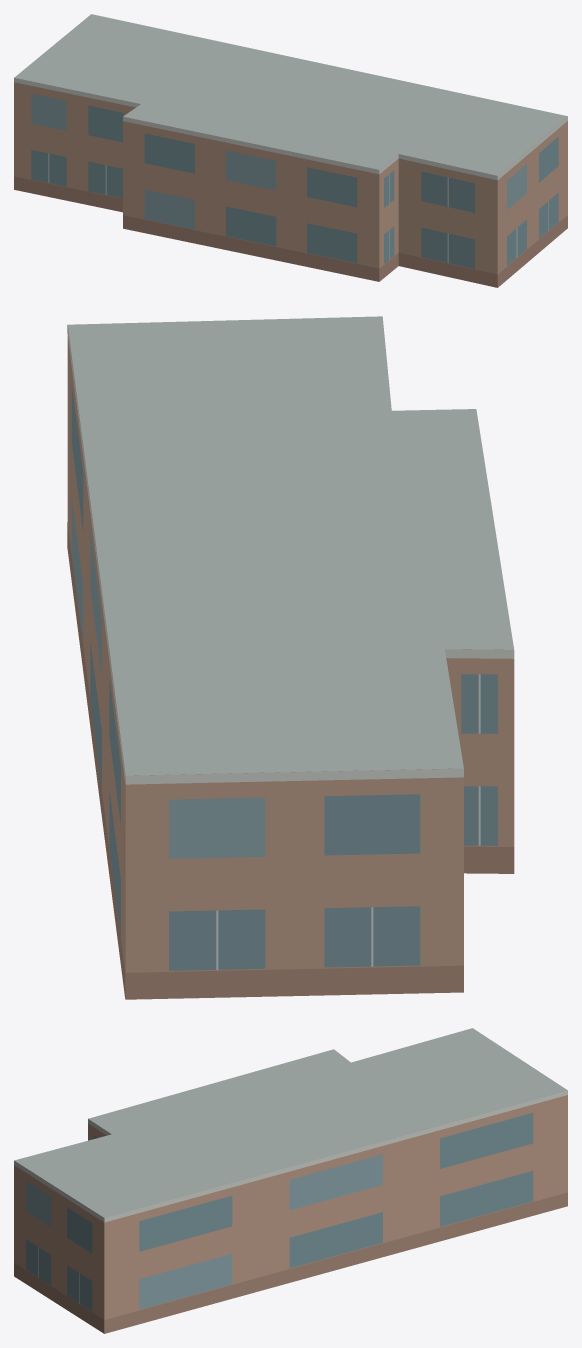
File: survey-upis-32472935.glb
3 views of the same model, one above another, from view 1: azimuth 30°, elevation 25°; view 2: azimuth 150°, elevation 25°; view 3: azimuth 270°, elevation 25° (orthographic). The views are drawn at different scales.
Visible parts, largest first — view 1: survey-upis-32472935.tmp; view 2: survey-upis-32472935.tmp; view 3: survey-upis-32472935.tmp.
Boxes of the visible parts, x1=… form: survey-upis-32472935.tmp: x1=14, y1=14, x2=567, y2=287; survey-upis-32472935.tmp: x1=67, y1=316, x2=514, y2=999; survey-upis-32472935.tmp: x1=14, y1=1028, x2=567, y2=1333.
Size of the model in its own units: 21.44 by 6.1 by 26.42.
